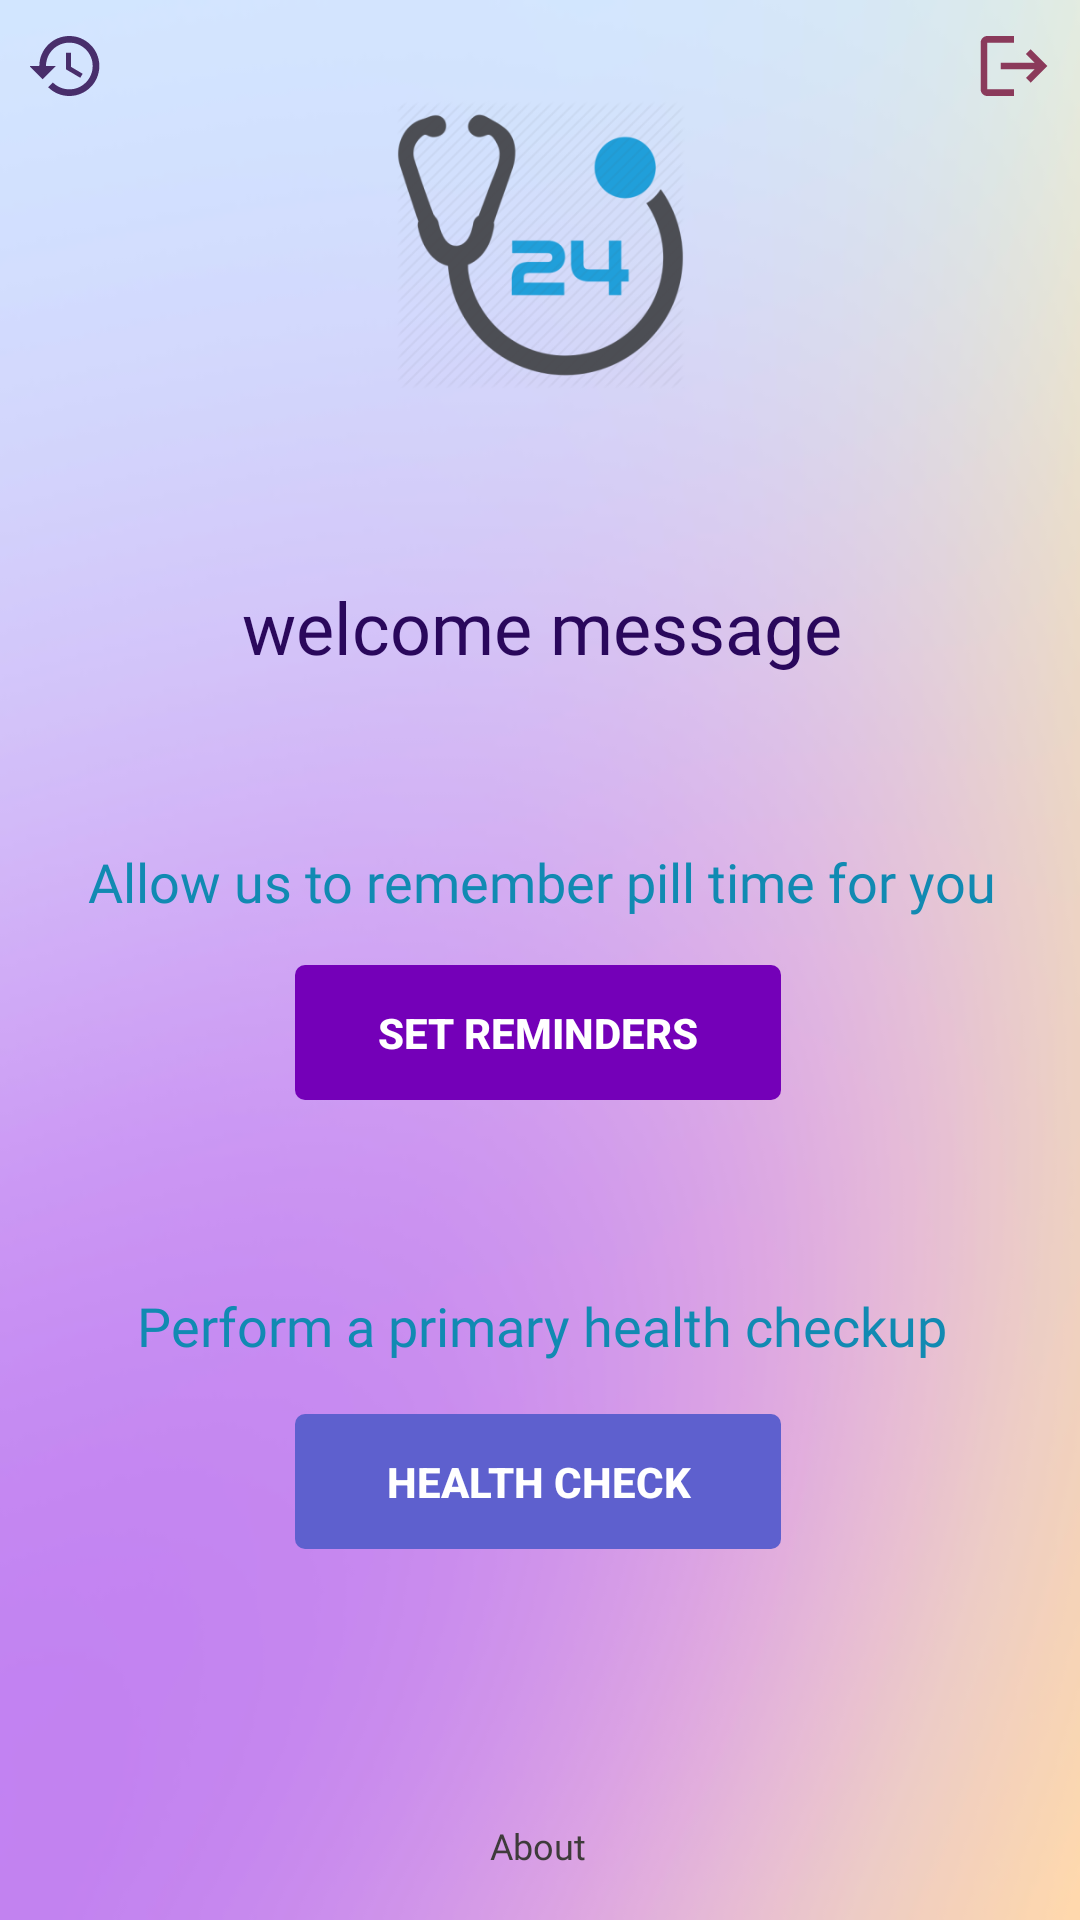

Icon click points for this 1080×1920 phone screenshot, format (x=x, y=y):
history: (x=65, y=66)
